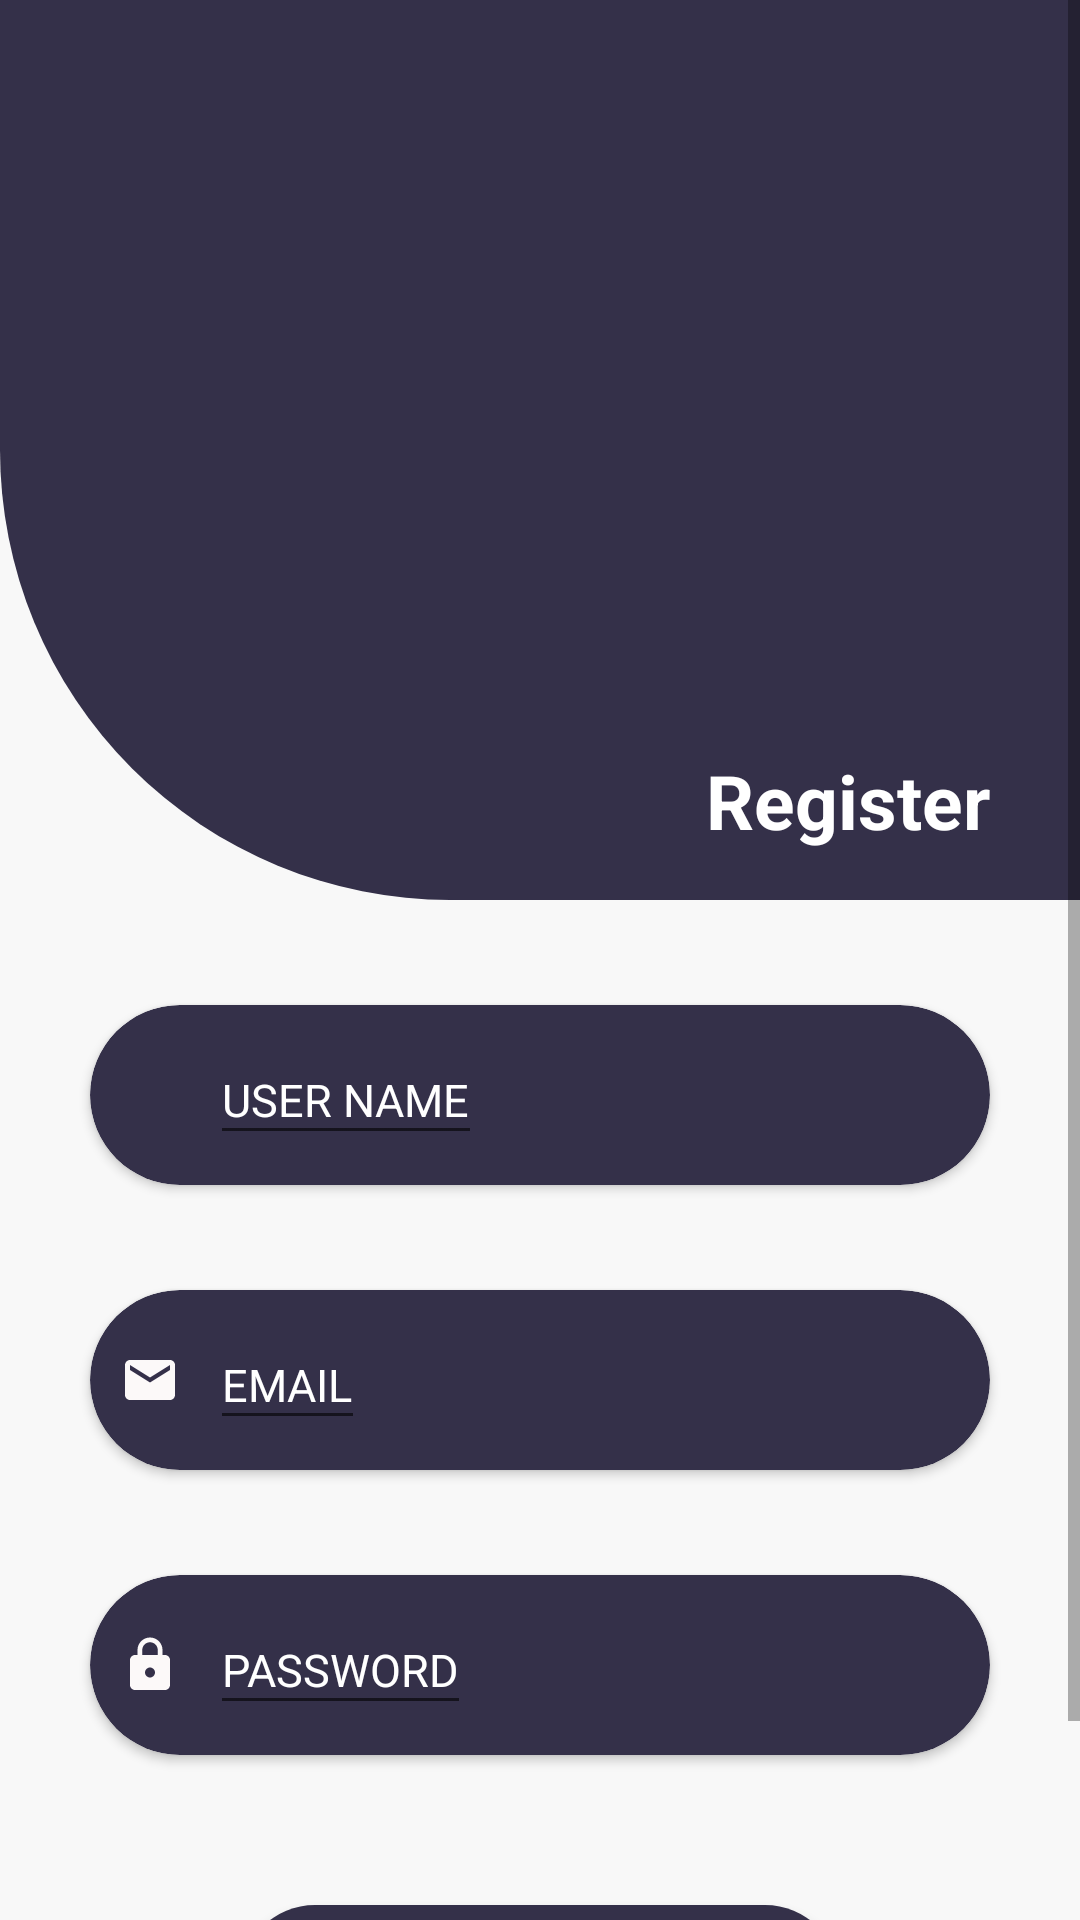

Icons on this 1080px×1920px Android screen, each with the point to tap as point (x, y):
lock: point (150, 1663)
